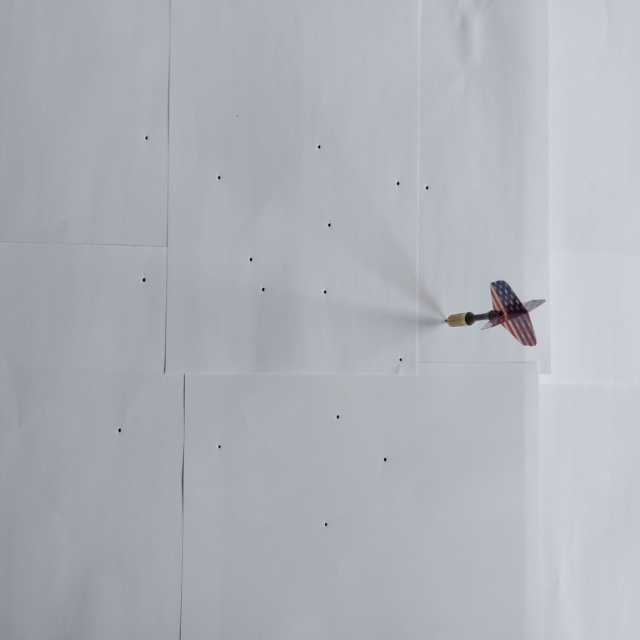Dart: (438, 279, 547, 355)
